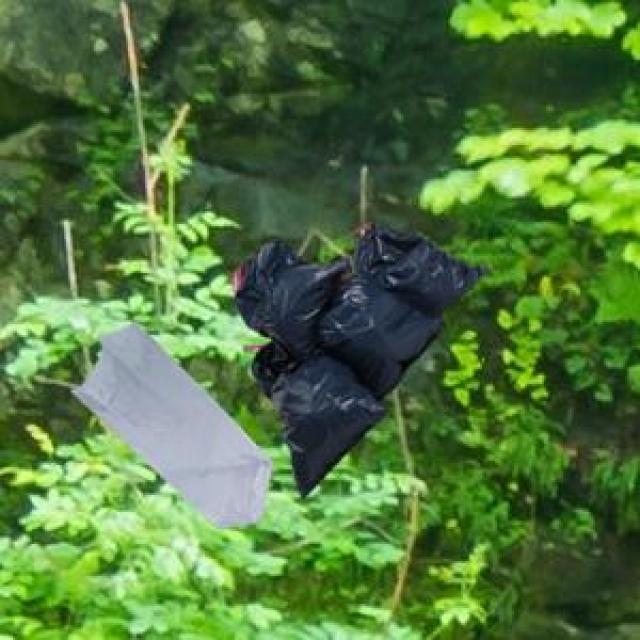miscellaneous trash: (228, 218, 481, 493)
